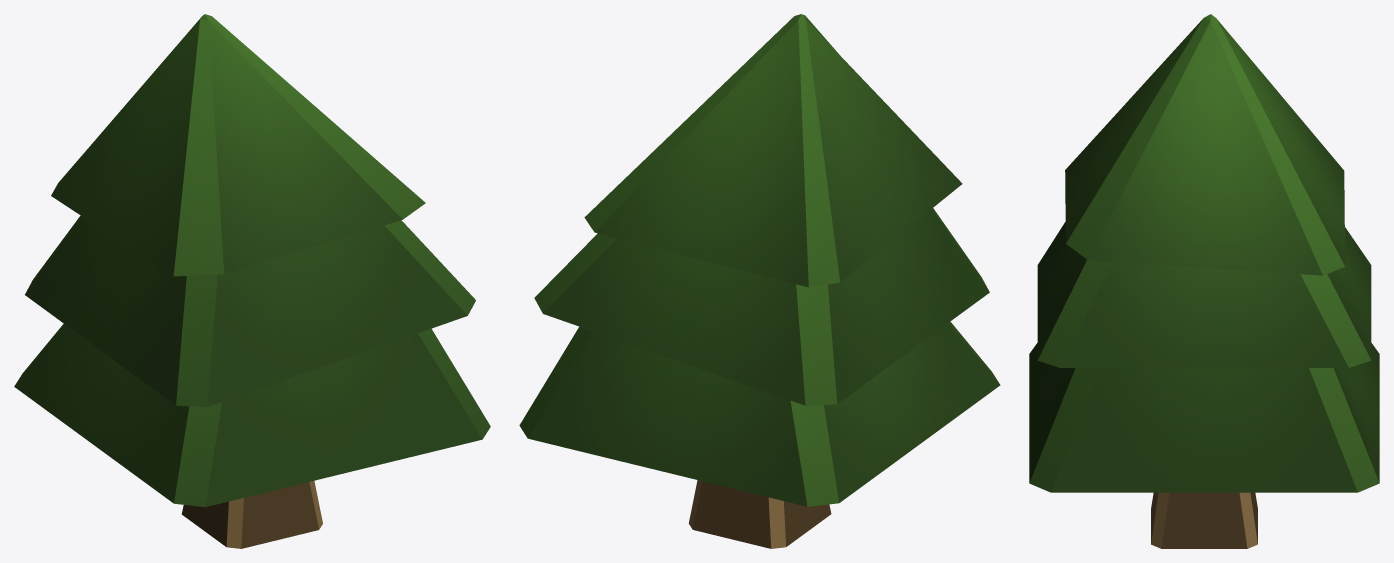
File: Runestrife-Land-Tree1.fbx
3 views of the same model, side by side, from view 1: azimuth 30°, elevation 25°; view 2: azimuth 150°, elevation 25°; view 3: azimuth 270°, elevation 25° (orthographic). The views are drawn at different scales.
Parts seen in each view (by area): view 1: Trunk; view 2: Trunk; view 3: Trunk.
Boxes of the visible parts, x1=… form: Trunk: x1=14, y1=14, x2=490, y2=548; Trunk: x1=519, y1=14, x2=1000, y2=548; Trunk: x1=1029, y1=14, x2=1379, y2=548.
Bounding box in the file's own units: 117 × 181 × 117.
